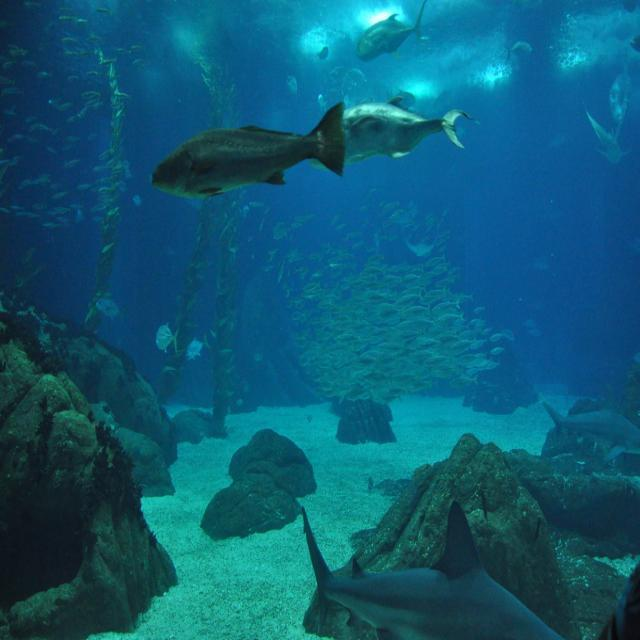Shark: (299, 502, 562, 640), (150, 104, 345, 198), (344, 84, 472, 164), (355, 0, 423, 61)
